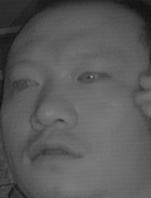eye: (75, 65, 109, 87), (10, 72, 40, 94)
mouth: (24, 133, 83, 166)
